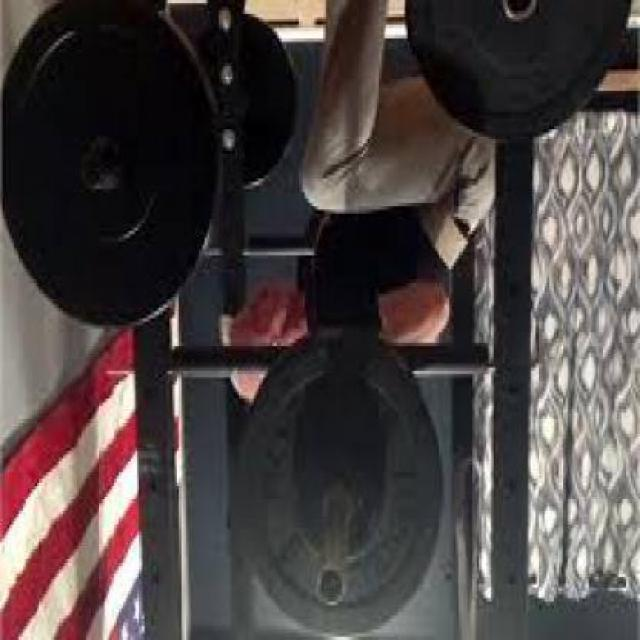Barbell: (313, 562, 349, 610)
